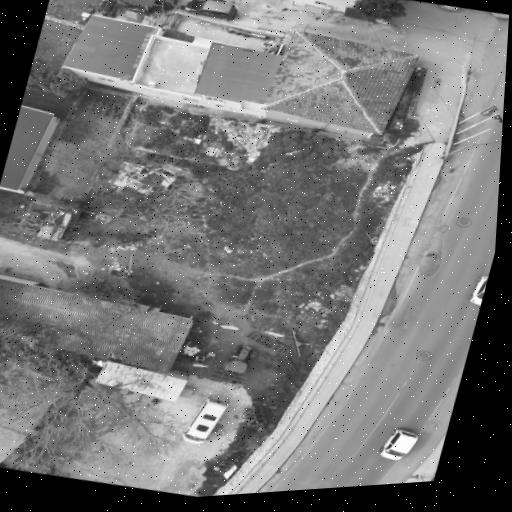car: (181, 396, 227, 444), (381, 429, 416, 459), (184, 0, 235, 19), (469, 276, 487, 304), (440, 4, 458, 10), (490, 12, 508, 17)
tractors: (221, 345, 253, 373)
